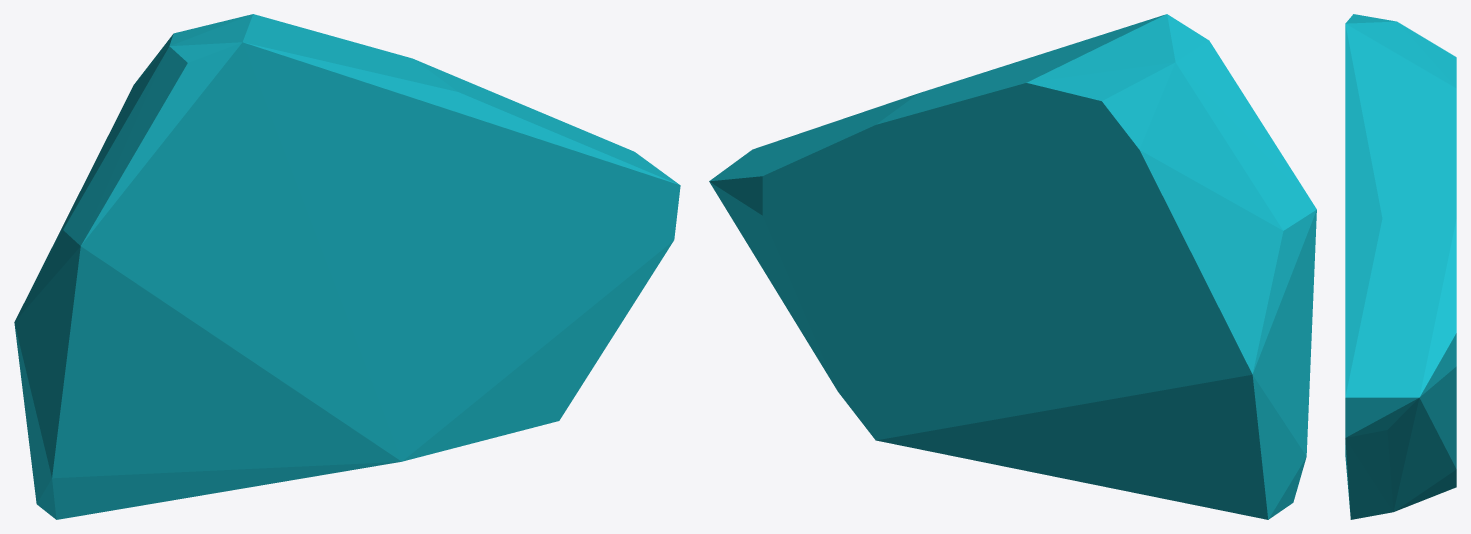
The model's file is mouth_cup029.obj.
3 views of the same model, side by side, from view 1: azimuth 30°, elevation 25°; view 2: azimuth 150°, elevation 25°; view 3: azimuth 270°, elevation 25° (orthographic). The views are drawn at different scales.
Visible parts, largest first — view 1: mouth_cup029_mouth_cup029.001; view 2: mouth_cup029_mouth_cup029.001; view 3: mouth_cup029_mouth_cup029.001.
Boxes of the visible parts, <box> form: mouth_cup029_mouth_cup029.001: <box>14,14,680,519</box>; mouth_cup029_mouth_cup029.001: <box>709,14,1316,519</box>; mouth_cup029_mouth_cup029.001: <box>1345,14,1456,519</box>.
Size of the model in its own units: 0.1439 by 0.1042 by 0.0283.
